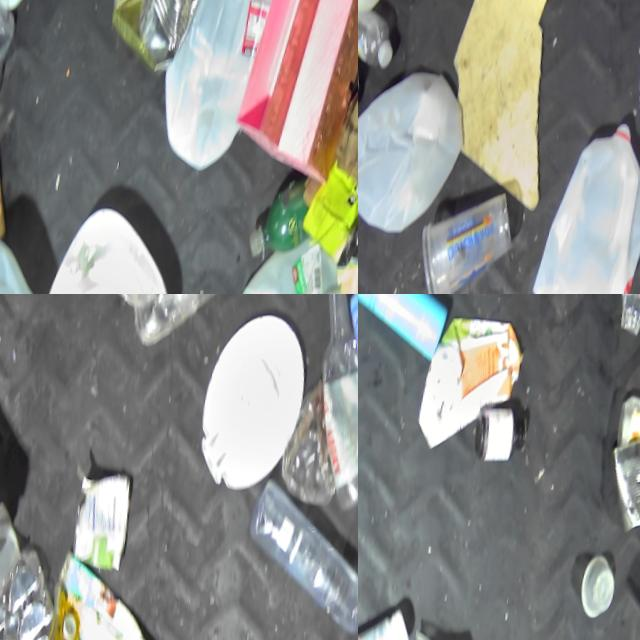milk_jug: (155, 0, 289, 169), (358, 62, 478, 240), (529, 120, 640, 294), (213, 228, 358, 294), (0, 233, 68, 294), (611, 431, 640, 526)
plastic_bottle: (244, 487, 358, 639), (305, 294, 358, 504)
